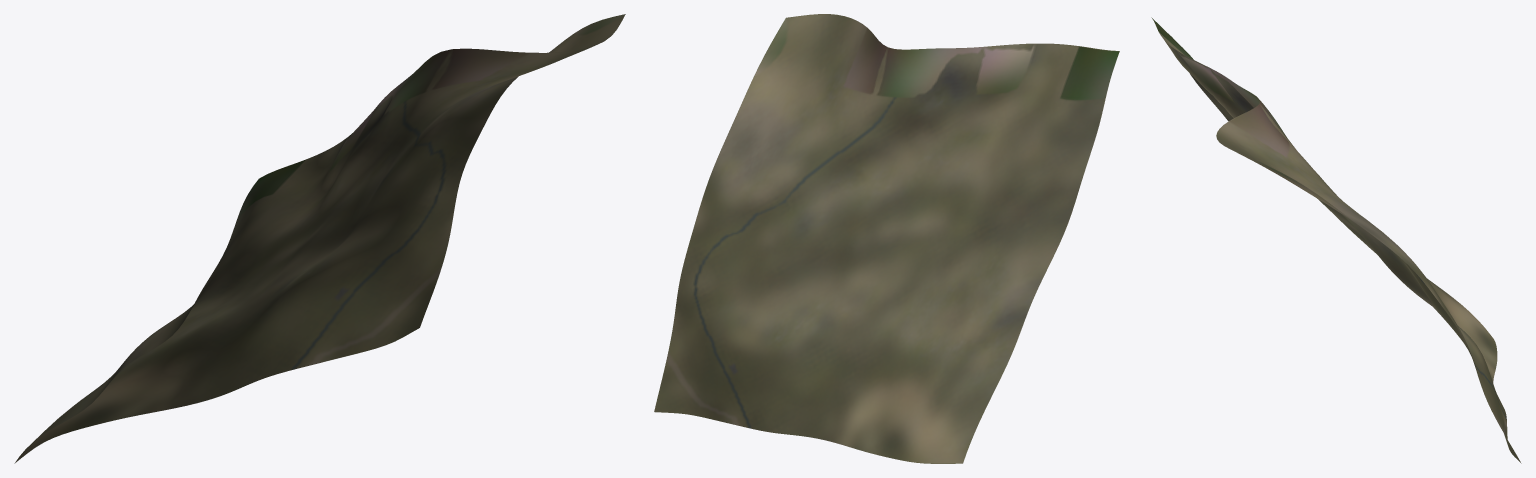
File: ground_mid_07_09.obj
3 renders of one model, left to right at view 1: azimuth 30°, elevation 25°; view 2: azimuth 150°, elevation 25°; view 3: azimuth 270°, elevation 25°, orthographic. The views are drawn at different scales.
Visible parts, largest first — view 1: ground_mid_07_09; view 2: ground_mid_07_09; view 3: ground_mid_07_09.
Boxes of the visible parts, bbox=[...] form: ground_mid_07_09: bbox=[14, 14, 625, 463]; ground_mid_07_09: bbox=[654, 14, 1119, 463]; ground_mid_07_09: bbox=[1151, 17, 1521, 463].
Bounding box in the file's own units: 200 × 200 × 221.
1 material, 1 textured.
